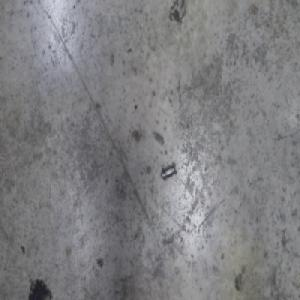Bolt: (160, 163, 176, 183)
